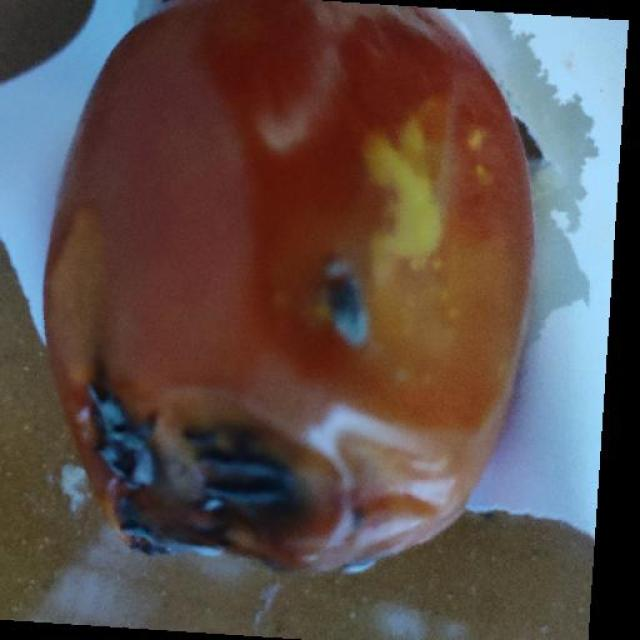Stale_tomato: (82, 0, 532, 586)
